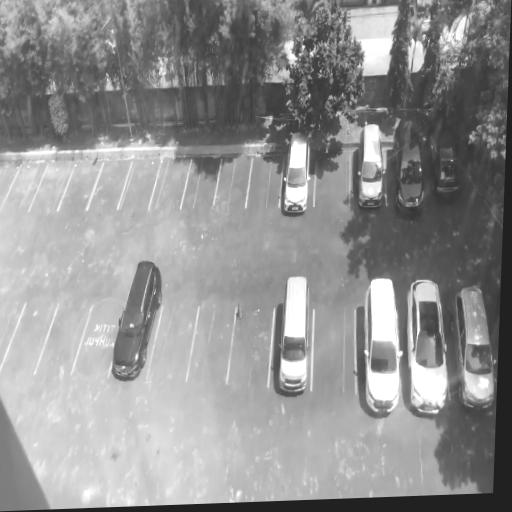Car: (108, 257, 167, 382), (407, 276, 452, 417), (452, 283, 496, 417), (364, 276, 402, 415), (278, 273, 310, 396), (422, 115, 466, 200), (390, 119, 425, 220), (280, 128, 313, 216), (357, 121, 385, 214)
Space Available: (0, 301, 58, 374), (184, 307, 237, 383), (148, 304, 199, 382), (36, 304, 91, 374), (227, 308, 275, 388), (72, 305, 124, 378), (311, 308, 355, 392), (85, 160, 133, 210), (28, 161, 74, 213), (58, 161, 103, 214), (1, 163, 48, 212), (149, 157, 192, 210), (118, 161, 161, 213), (211, 155, 253, 208), (313, 147, 350, 206), (181, 158, 220, 209), (246, 157, 283, 210), (0, 302, 25, 368), (0, 163, 19, 208)
